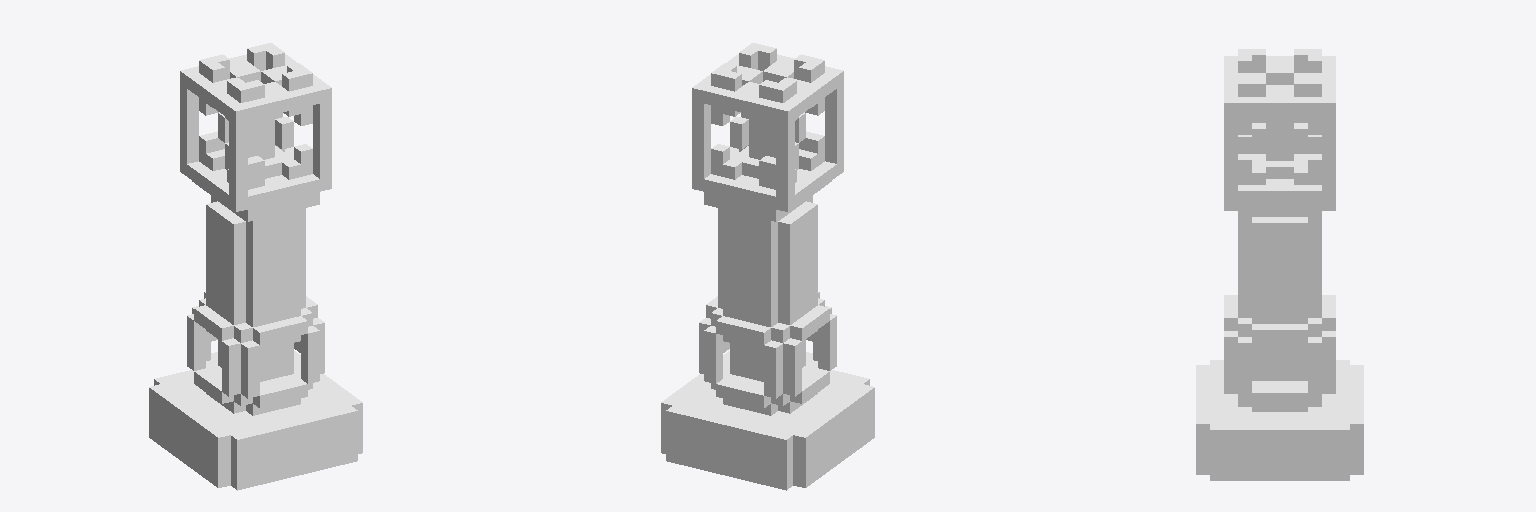
Rendered from elephant.blue.obj.
3 renders of one model, left to right at view 1: azimuth 30°, elevation 25°; view 2: azimuth 150°, elevation 25°; view 3: azimuth 270°, elevation 25°, orthographic.
Visible parts, largest first — view 1: object 1; view 2: object 1; view 3: object 1.
Part boxes in pixels (left/top/right/bottom): object 1: left=149, top=43, right=362, bottom=490; object 1: left=661, top=43, right=874, bottom=490; object 1: left=1196, top=49, right=1363, bottom=480.
Size of the model in its own units: 1.2 by 3 by 1.2.